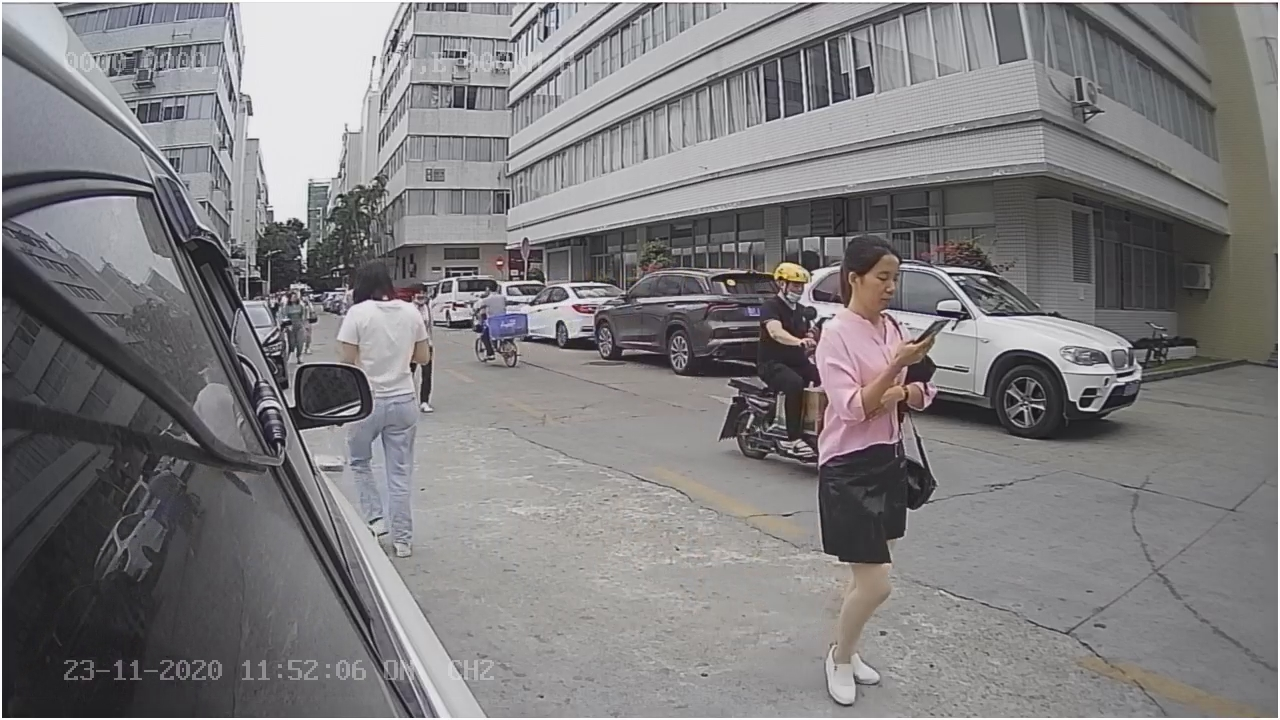person: (811, 229, 939, 697), (333, 258, 433, 366)
